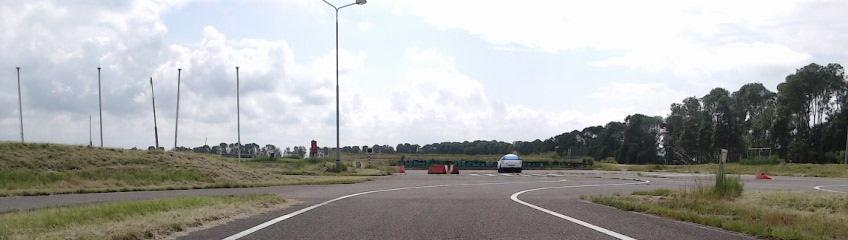Car: (497, 154, 522, 173)
